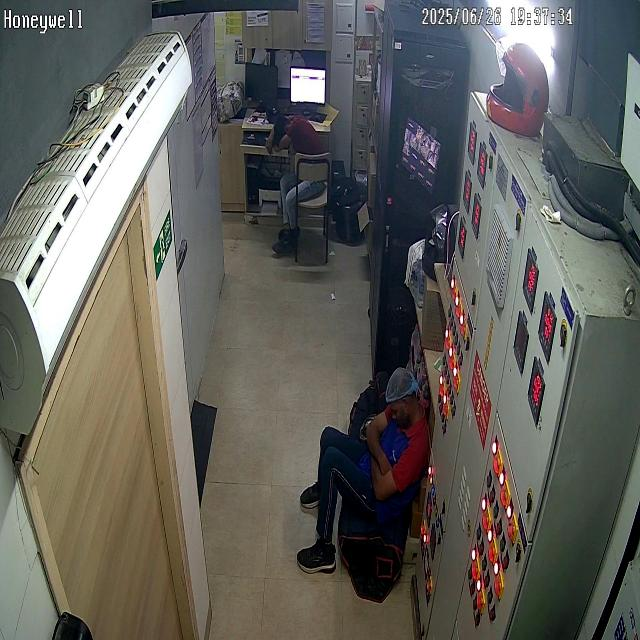helmet: (486, 43, 549, 136)
no_helmet: (384, 365, 419, 427)
